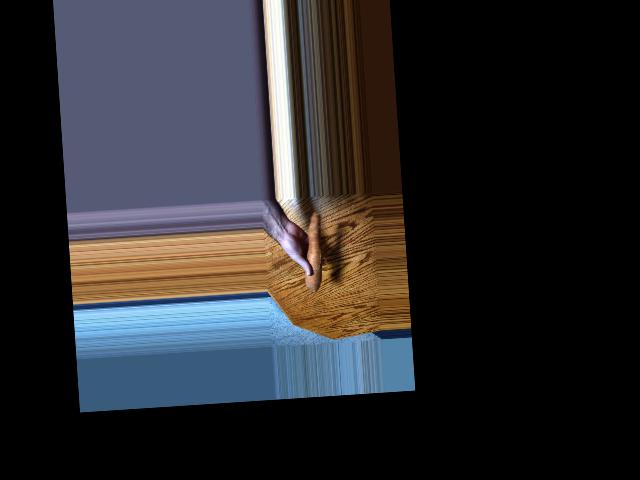sweet_potato: (303, 208, 326, 290)
